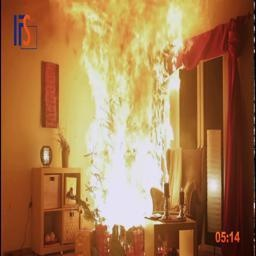fire: (44, 0, 196, 234)
